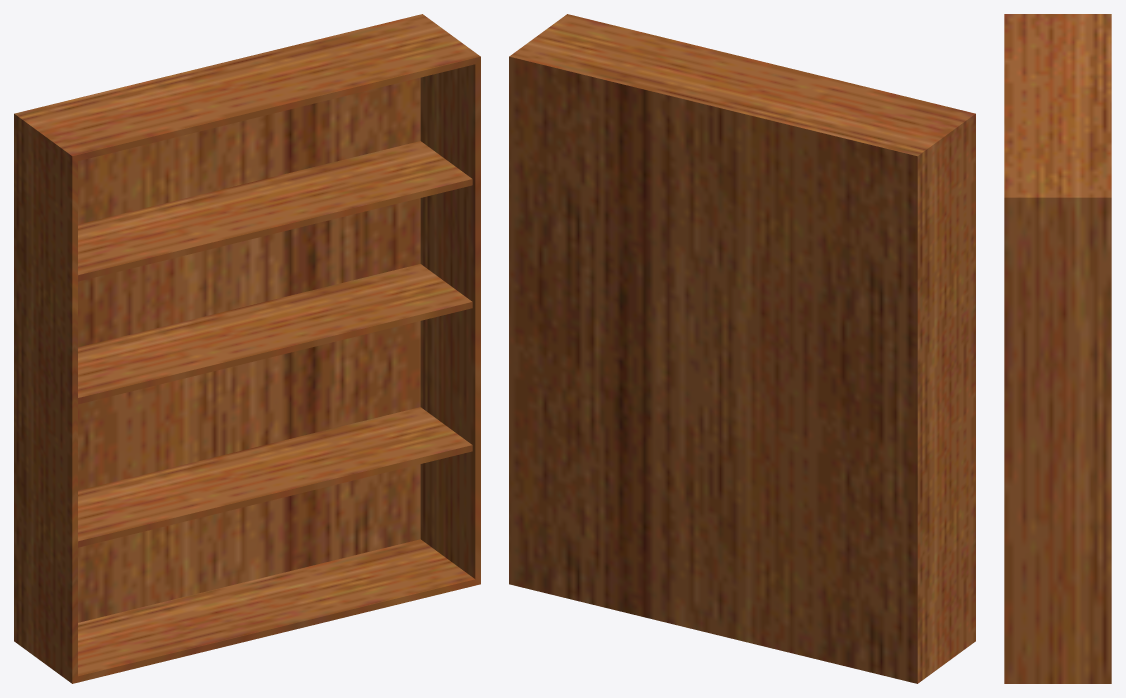
Rendered from book_case_with_back.fbx.
The picture shows the model from 3 angles, left to right: view 1: azimuth 30°, elevation 25°; view 2: azimuth 150°, elevation 25°; view 3: azimuth 270°, elevation 25°; orthographic projection. The views are drawn at different scales.
Visible parts, largest first — view 1: book_case_with_back; view 2: book_case_with_back; view 3: book_case_with_back.
Boxes of the visible parts, x1,y1,x2,y2 form: book_case_with_back: [14, 14, 480, 683]; book_case_with_back: [509, 14, 975, 683]; book_case_with_back: [1004, 14, 1111, 683].
Size of the model in its own units: 203 by 250 by 50.
1 material, 1 textured.
